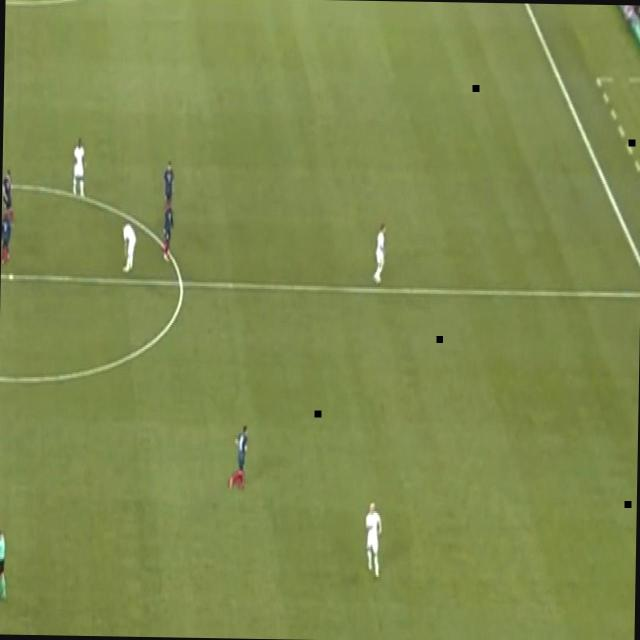player-white: (362, 499, 385, 585), (226, 419, 250, 497), (159, 199, 180, 266), (118, 213, 139, 279), (69, 134, 89, 203), (371, 219, 390, 289), (0, 506, 12, 606), (160, 156, 179, 217), (1, 201, 16, 271), (2, 164, 14, 226)
